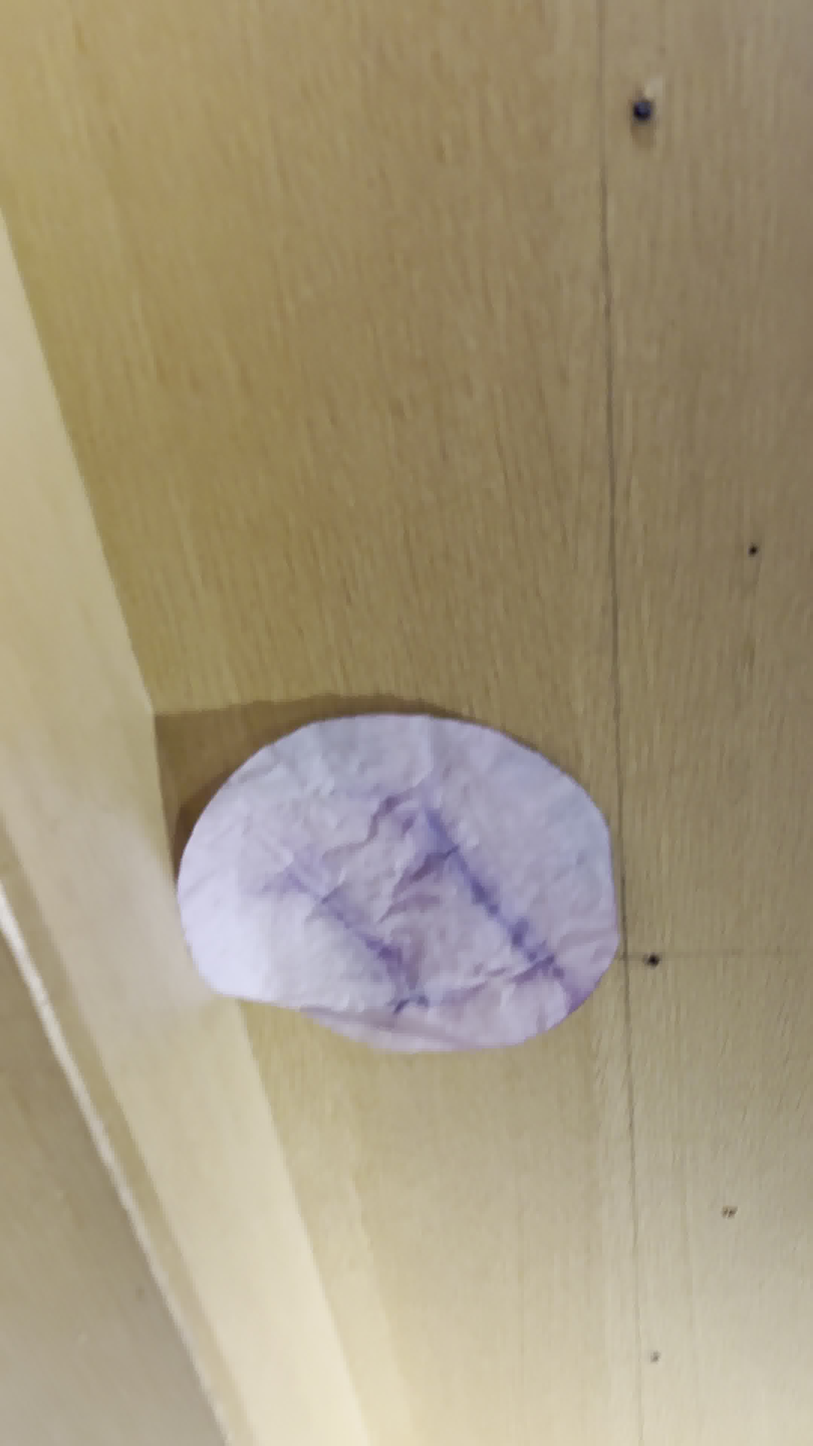Target: (177, 715, 618, 1051)
